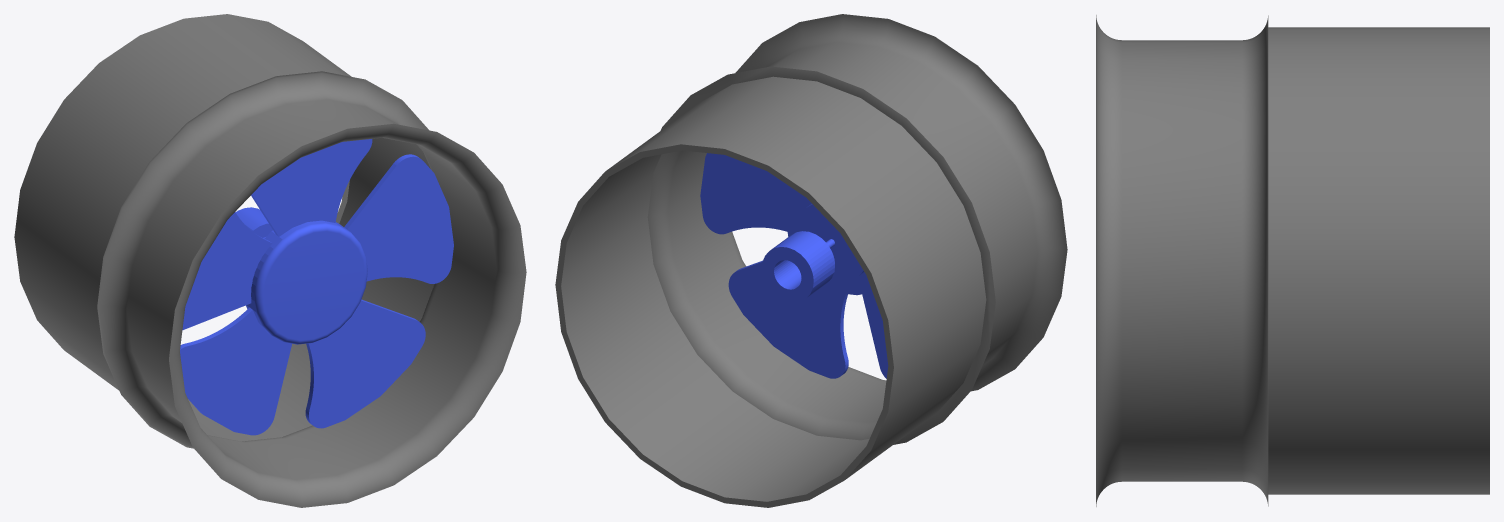
3 views of the same model, side by side, from view 1: azimuth 30°, elevation 25°; view 2: azimuth 150°, elevation 25°; view 3: azimuth 270°, elevation 25° (orthographic). The views are drawn at different scales.
Size of the model in its own units: 0.1902 by 0.1902 by 0.151.
